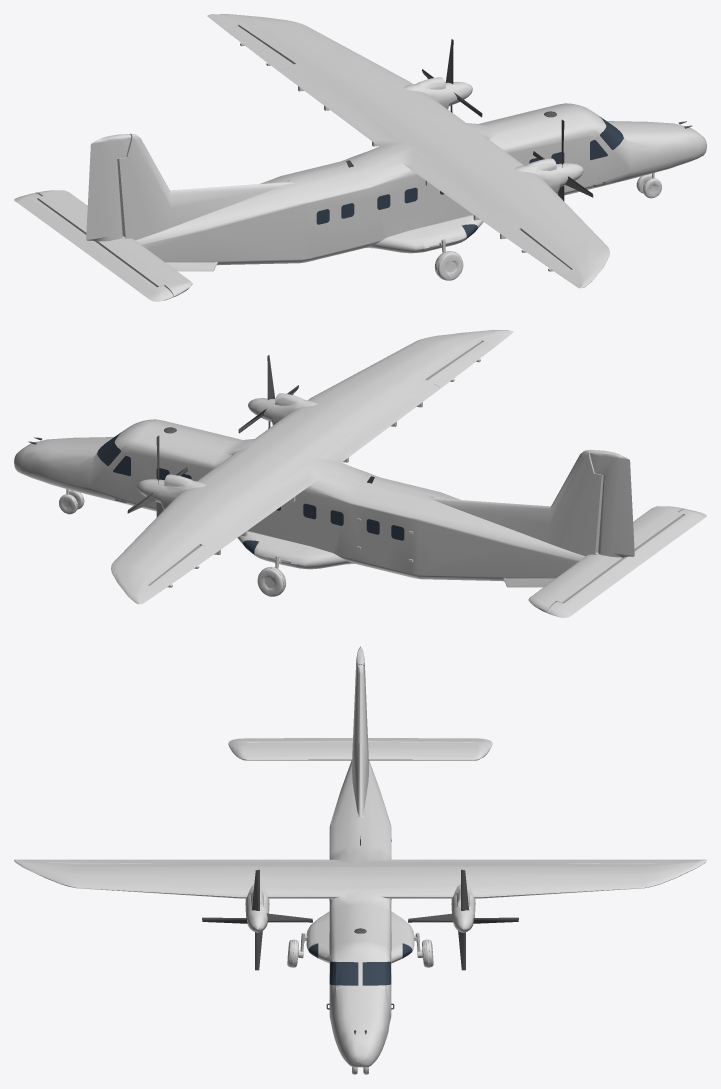
The picture shows the model from 3 angles, top to bottom: view 1: azimuth 30°, elevation 25°; view 2: azimuth 150°, elevation 25°; view 3: azimuth 270°, elevation 25°; orthographic projection. The views are drawn at different scales.
Parts seen in each view (by area): view 1: body, glass, spin (×2); view 2: body, glass, spin (×2); view 3: body, spin (×2), glass.
Boxes of the visible parts, x1,y1,x2,y2 form: body: [14, 14, 706, 301]; glass: [316, 116, 623, 239]; spin (×2): [422, 39, 593, 201]; body: [14, 330, 706, 617]; glass: [97, 432, 404, 555]; spin (×2): [127, 355, 298, 516]; body: [14, 646, 706, 1074]; spin (×2): [202, 869, 518, 970]; glass: [308, 943, 412, 985].
Size of the model in its own units: 2.12 by 0.6187 by 2.2.
